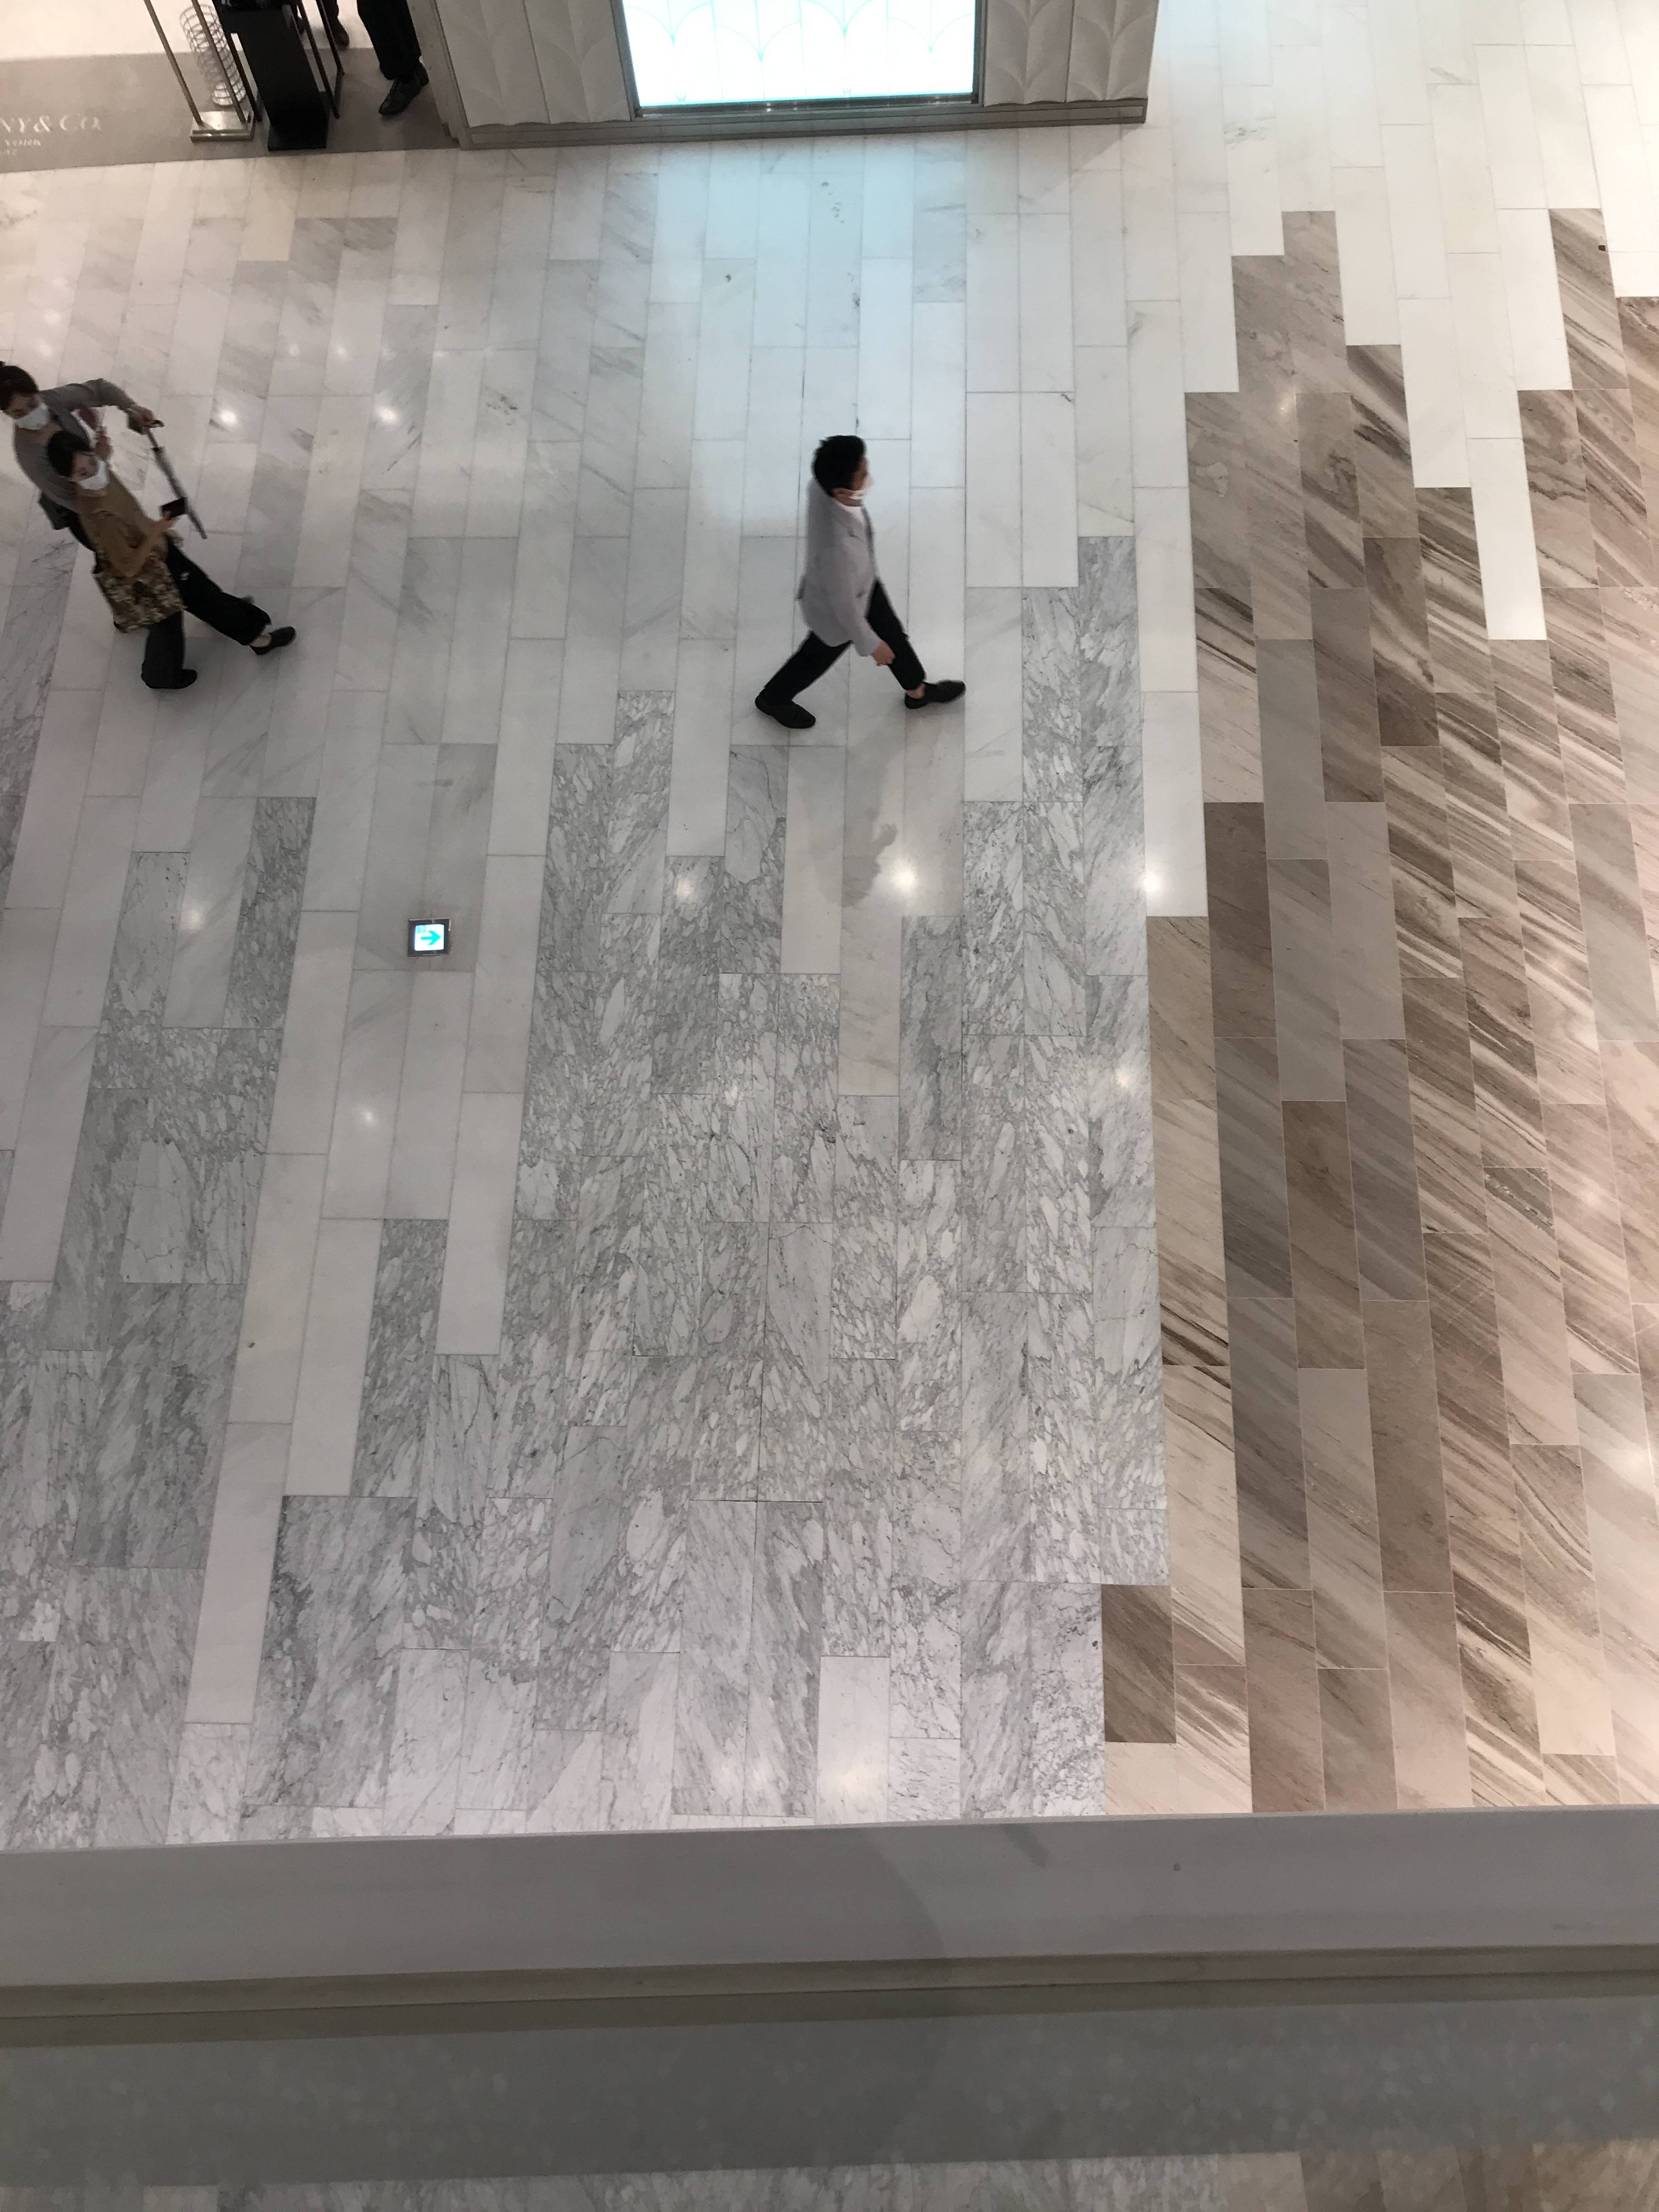person: (749, 433, 970, 737), (46, 431, 296, 691), (1, 356, 159, 556)
